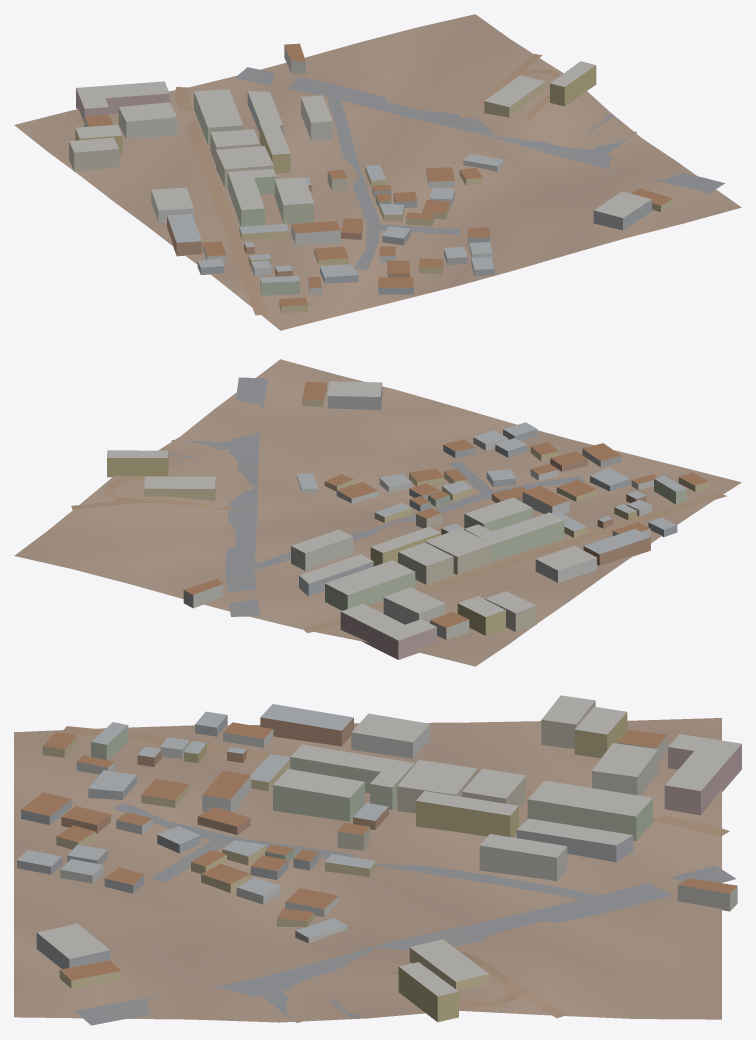
3 renders of one model, top to bottom at view 1: azimuth 30°, elevation 25°; view 2: azimuth 150°, elevation 25°; view 3: azimuth 270°, elevation 25°, orthographic. The views are drawn at different scales.
Visible parts, largest first — view 1: Lo; view 2: Lo; view 3: Lo.
Boxes of the visible parts, <box> form: Lo: <box>14,14,741,330</box>; Lo: <box>14,359,741,666</box>; Lo: <box>14,695,741,1025</box>.
Size of the model in its own units: 268 by 17.55 by 263.
